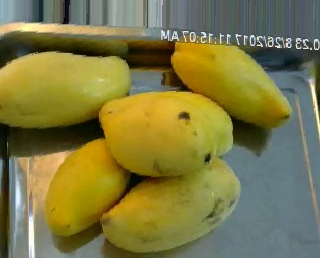Mango: (99, 158, 247, 255), (166, 31, 294, 135), (0, 46, 136, 134), (97, 96, 222, 178), (48, 135, 135, 236)
